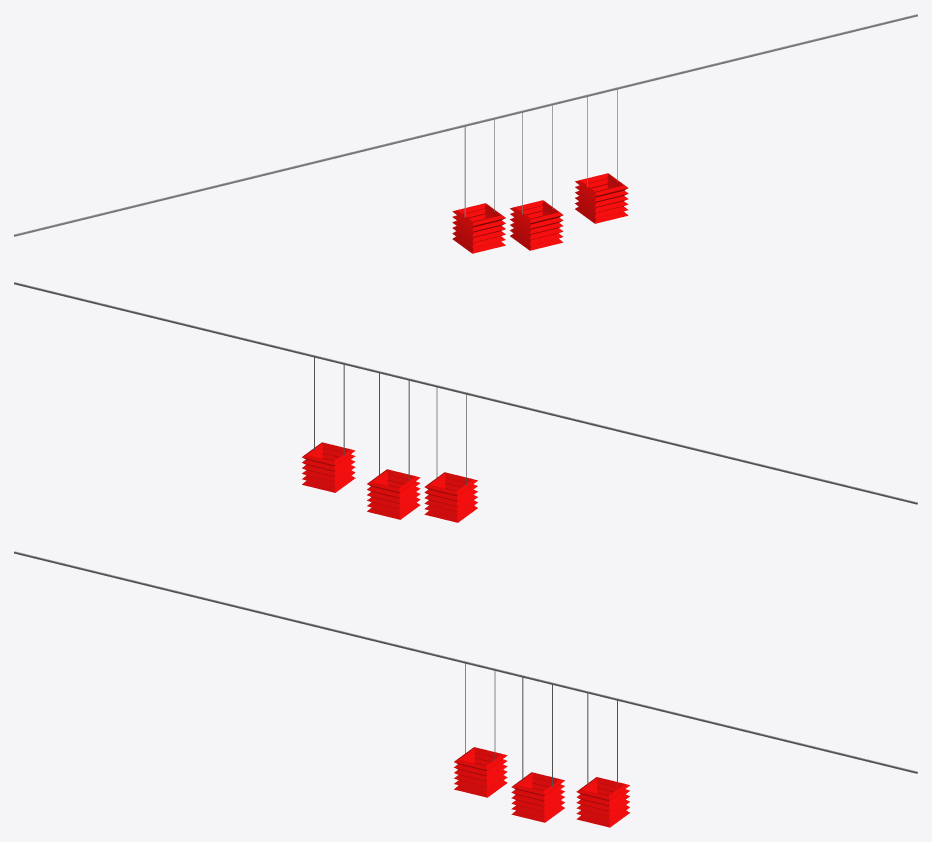
File: Paperlight_06.glb
3 views of the same model, one above another, from view 1: azimuth 30°, elevation 25°; view 2: azimuth 150°, elevation 25°; view 3: azimuth 330°, elevation 25° (orthographic).
Parts seen in each view (by area): view 1: paperlight_06_geo; view 2: paperlight_06_geo; view 3: paperlight_06_geo.
Boxes of the visible parts, left/top/right/bottom form: paperlight_06_geo: left=14, top=14, right=917, bottom=253; paperlight_06_geo: left=14, top=282, right=917, bottom=522; paperlight_06_geo: left=14, top=551, right=917, bottom=827.
Size of what is drawn, in the model's own units: 13.3 by 1.87 by 0.5178.
Materials: 1 (1 with a texture image).
